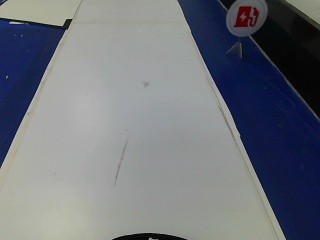battery: (223, 0, 265, 36)
